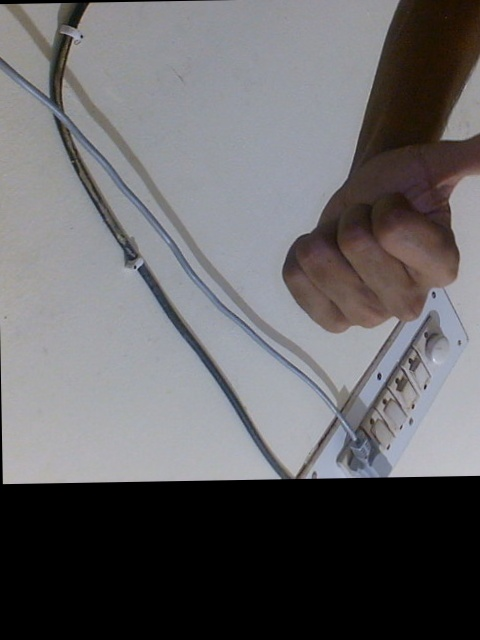hand: (278, 134, 480, 343)
